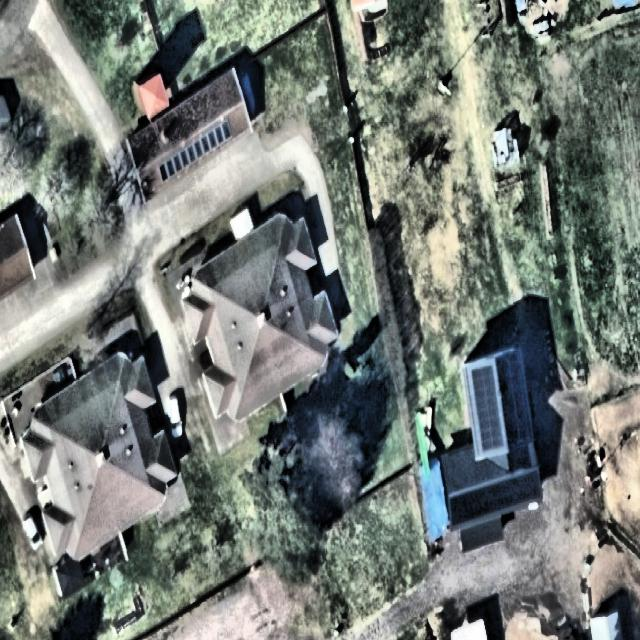roof_pv: (468, 360, 506, 457), (506, 472, 542, 508), (204, 117, 234, 160), (176, 136, 204, 176), (479, 478, 505, 521), (449, 490, 479, 525), (156, 148, 177, 182)
